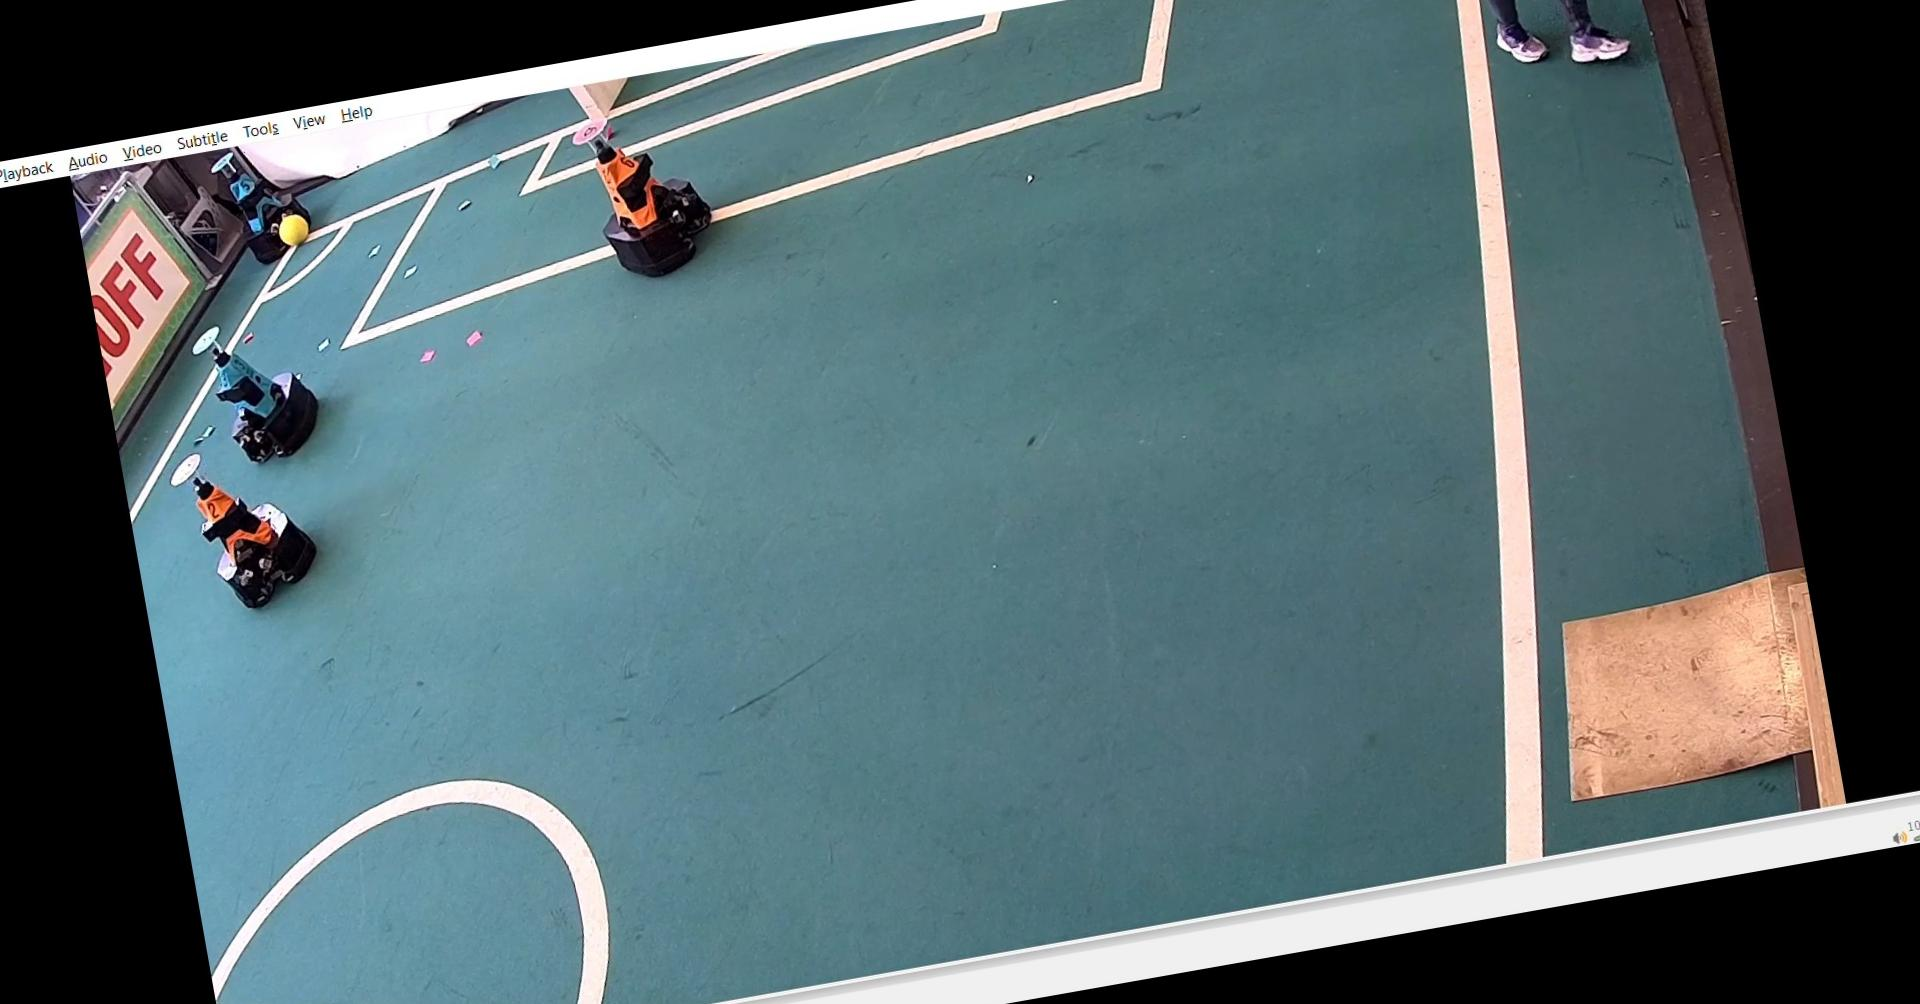Ball: (268, 203, 316, 250)
Team_Blue: (184, 308, 326, 470), (204, 138, 316, 267)
Team_Red: (165, 432, 338, 616), (568, 90, 720, 286)
